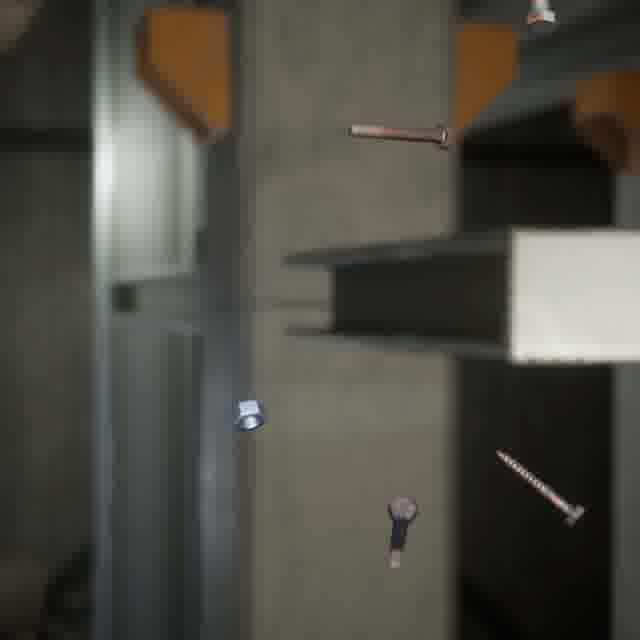bolt: (491, 445, 589, 530), (343, 118, 460, 153), (382, 490, 422, 573), (521, 0, 561, 39)
nut: (224, 395, 272, 435)
